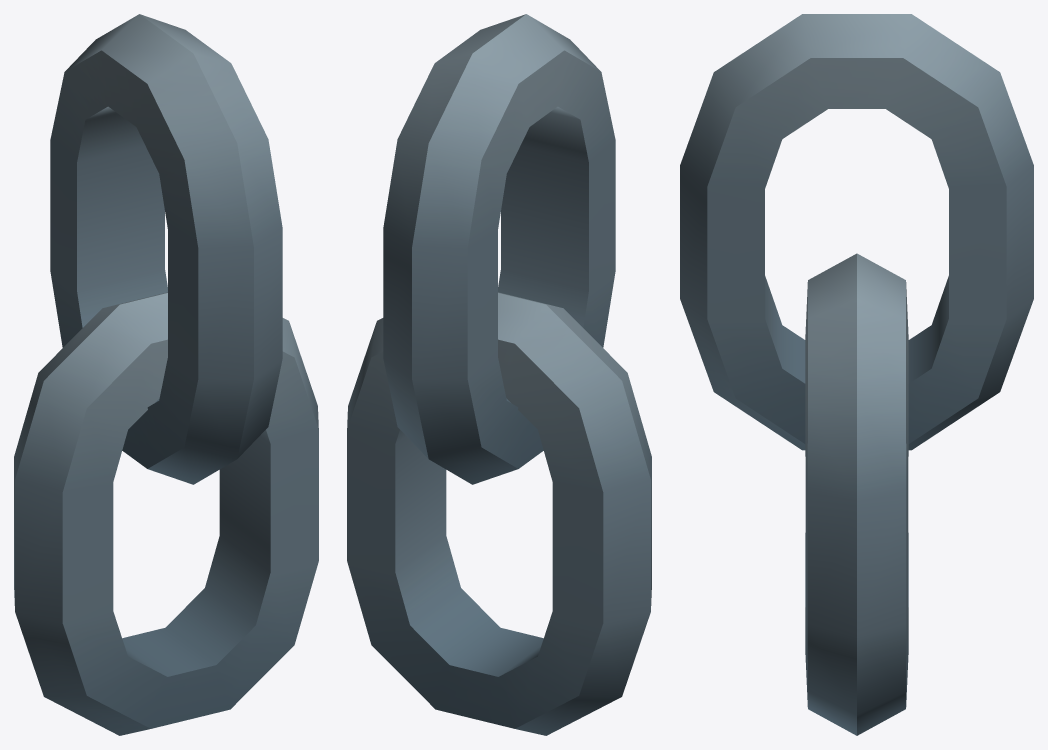
Rendered from chainlinks.fbx.
3 renders of one model, left to right at view 1: azimuth 30°, elevation 25°; view 2: azimuth 150°, elevation 25°; view 3: azimuth 270°, elevation 25°, orthographic.
Parts seen in each view (by area): view 1: chainlinks; view 2: chainlinks; view 3: chainlinks.
Boxes of the visible parts, x1=… form: chainlinks: x1=14, y1=14, x2=318, y2=735; chainlinks: x1=347, y1=14, x2=651, y2=735; chainlinks: x1=680, y1=14, x2=1033, y2=735.
Size of the model in its own units: 24.43 by 53.25 by 24.43.
